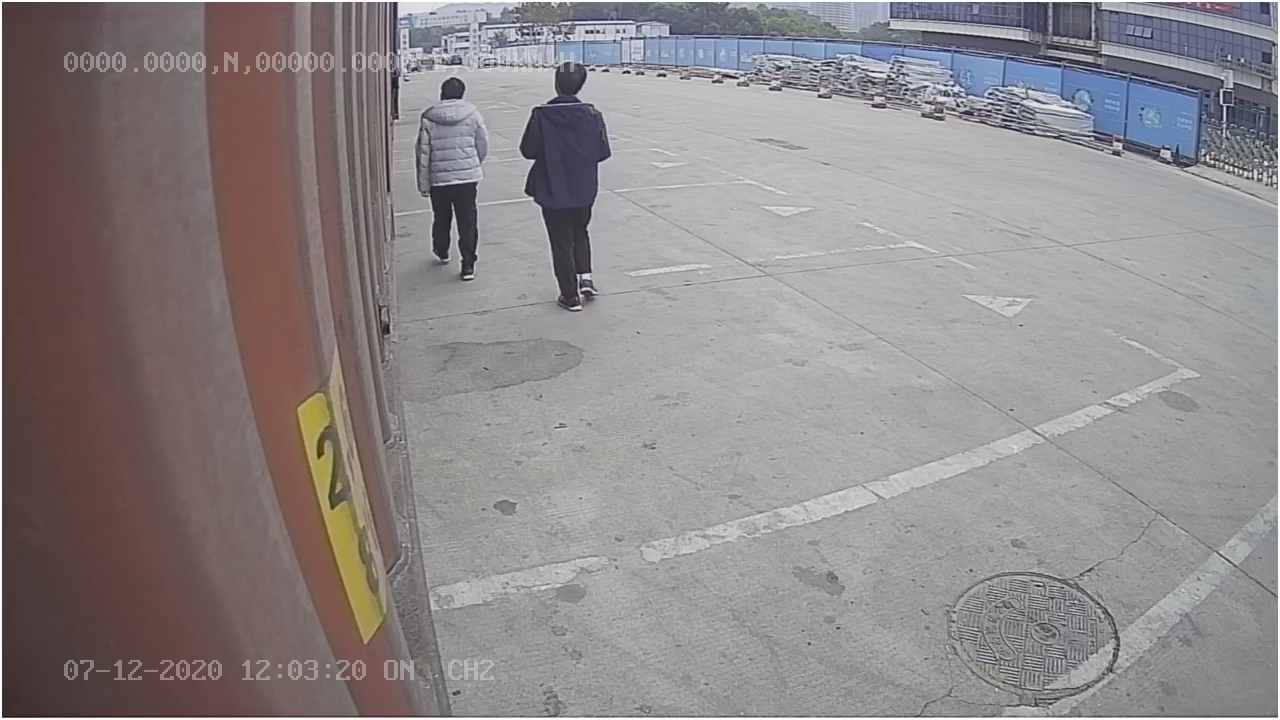person: (513, 64, 613, 311)
